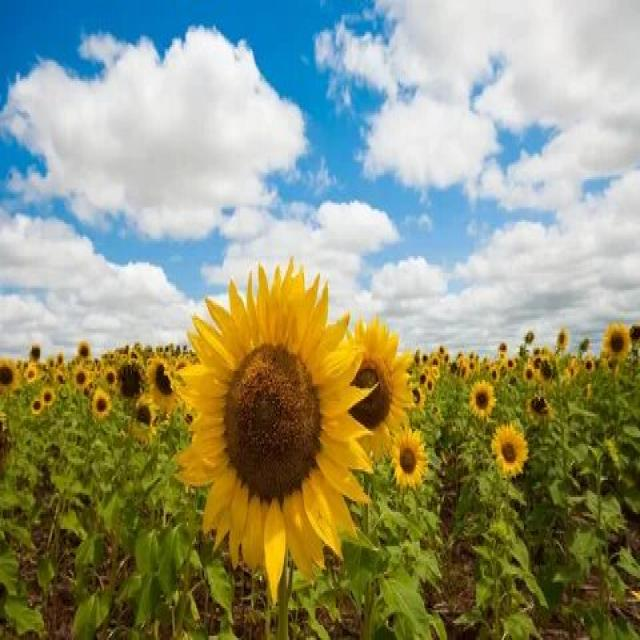sunflower: (176, 264, 383, 589), (342, 314, 418, 472), (394, 418, 429, 495), (139, 350, 181, 412), (492, 422, 527, 484), (602, 316, 634, 367), (470, 376, 498, 422), (90, 384, 114, 420), (40, 386, 56, 408)
